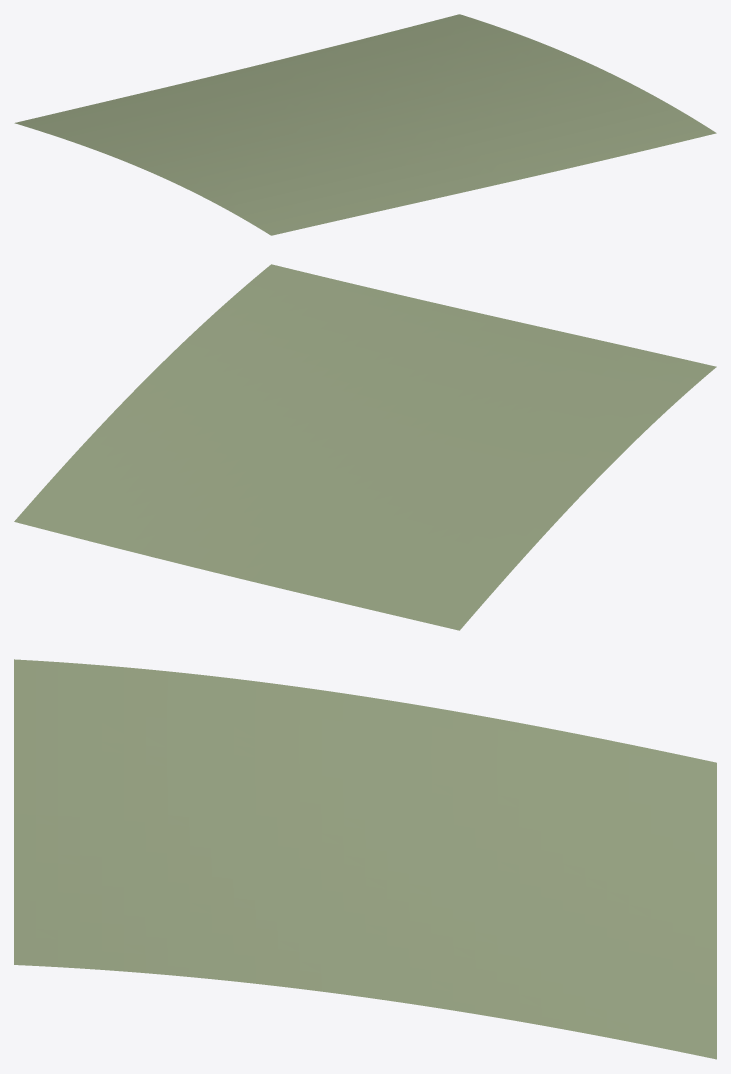
The model's file is expanse-30-6.glb.
The picture shows the model from 3 angles, top to bottom: view 1: azimuth 30°, elevation 25°; view 2: azimuth 150°, elevation 25°; view 3: azimuth 270°, elevation 25°; orthographic projection. The views are drawn at different scales.
Visible parts, largest first — view 1: expanse-30-6; view 2: expanse-30-6; view 3: expanse-30-6.
Part boxes in pixels (x1=…): expanse-30-6: x1=14, y1=14, x2=716, y2=235; expanse-30-6: x1=14, y1=264, x2=716, y2=630; expanse-30-6: x1=14, y1=659, x2=716, y2=1059.
Size of the model in its own units: 256 by 42.36 by 256.
